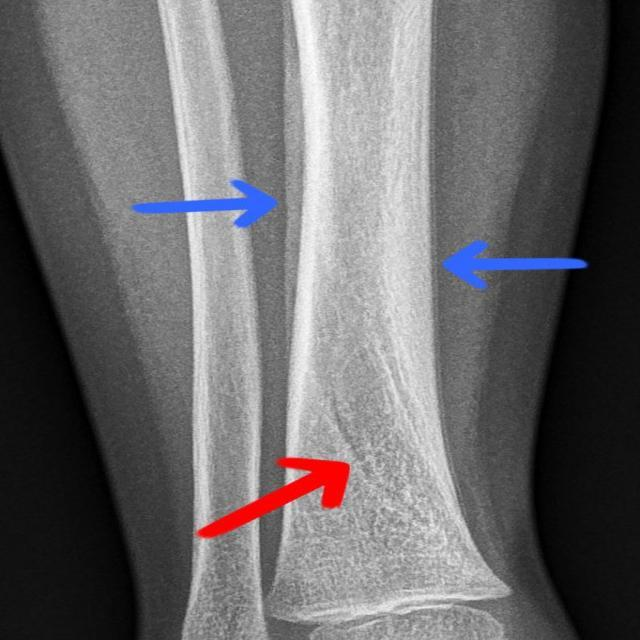Spiral: (303, 206, 472, 554)
